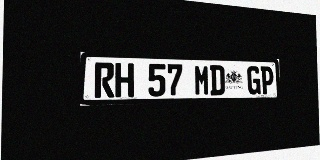5: (148, 64, 166, 97)
7: (166, 64, 183, 96)
D: (210, 65, 225, 95)
G: (247, 66, 261, 95)
H: (115, 63, 134, 97)
M: (194, 65, 210, 96)
P: (261, 66, 274, 94)
R: (94, 62, 114, 98)
